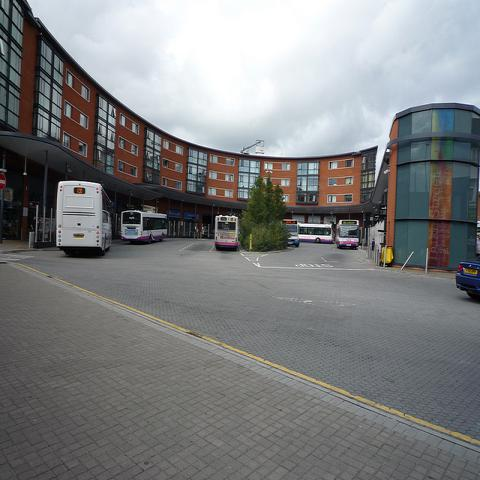bus: (57, 179, 116, 256), (119, 212, 174, 242), (298, 223, 336, 246), (214, 216, 238, 249), (336, 221, 360, 250), (283, 220, 300, 246)
car: (454, 259, 480, 303)
